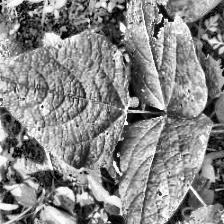ALS: (0, 33, 127, 165), (122, 117, 217, 224)
